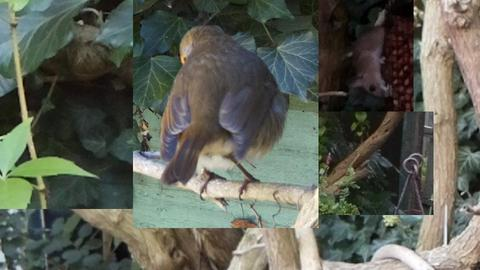mouse: (349, 25, 388, 98)
robin: (158, 25, 294, 203)
